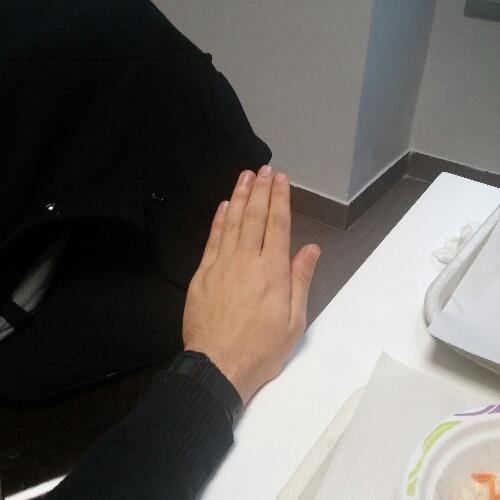paper: (172, 156, 334, 416)
